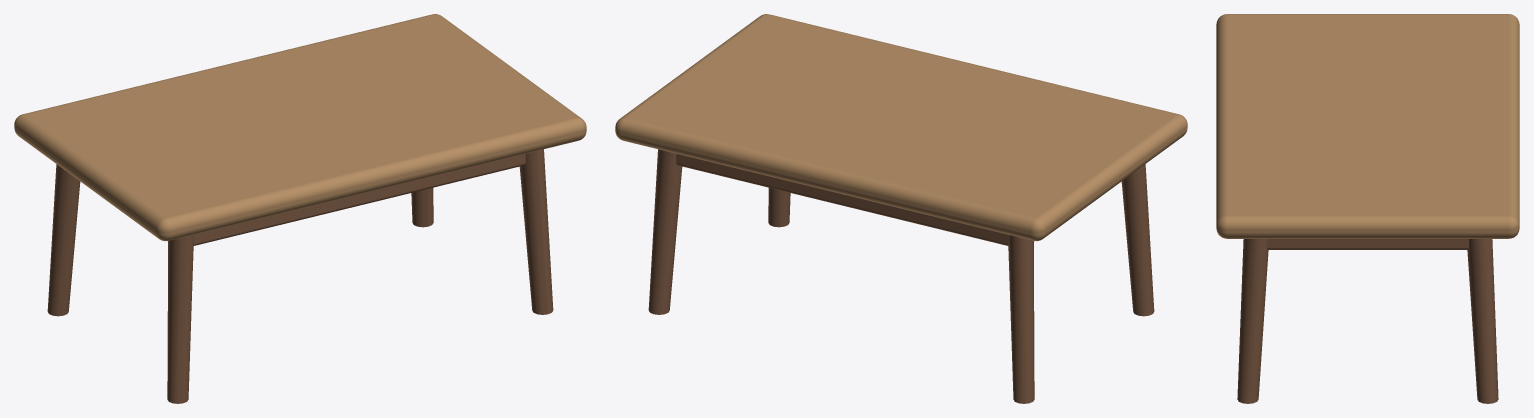
Rendered from diningtable.glb.
3 renders of one model, left to right at view 1: azimuth 30°, elevation 25°; view 2: azimuth 150°, elevation 25°; view 3: azimuth 270°, elevation 25°, orthographic.
Visible parts, largest first — view 1: solid-rounded-tabletop, long-apron-1, dining-leg--1-1, dining-leg-1-1, dining-leg--1--1, dining-leg-1--1; view 2: solid-rounded-tabletop, long-apron--1, dining-leg--1--1, dining-leg-1--1, dining-leg--1-1, dining-leg-1-1; view 3: solid-rounded-tabletop, dining-leg-1--1, dining-leg-1-1, end-apron-1.
Part boxes in pixels (x1=…): solid-rounded-tabletop: x1=14, y1=14, x2=586, y2=241; long-apron-1: x1=193, y1=154, x2=525, y2=245; dining-leg--1-1: x1=167, y1=235, x2=193, y2=403; dining-leg-1-1: x1=519, y1=149, x2=553, y2=314; dining-leg--1--1: x1=47, y1=164, x2=80, y2=316; dining-leg-1--1: x1=411, y1=187, x2=433, y2=227; solid-rounded-tabletop: x1=615, y1=14, x2=1187, y2=241; long-apron--1: x1=676, y1=154, x2=1008, y2=245; dining-leg--1--1: x1=1008, y1=235, x2=1034, y2=403; dining-leg-1--1: x1=648, y1=149, x2=682, y2=314; dining-leg--1-1: x1=1121, y1=164, x2=1154, y2=316; dining-leg-1-1: x1=768, y1=187, x2=790, y2=227; solid-rounded-tabletop: x1=1216, y1=14, x2=1519, y2=238; dining-leg-1--1: x1=1467, y1=239, x2=1498, y2=403; dining-leg-1-1: x1=1237, y1=239, x2=1268, y2=403; end-apron-1: x1=1267, y1=239, x2=1468, y2=249.
Size of the model in its own units: 1.8 by 0.7808 by 1.1.
